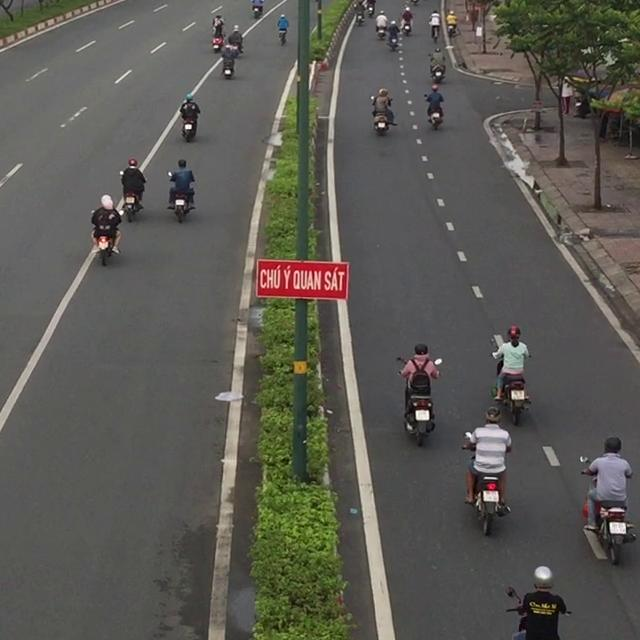Motorcycle: (578, 455, 637, 565), (461, 431, 512, 536), (396, 356, 442, 447), (491, 354, 531, 426), (166, 171, 195, 223), (118, 170, 144, 222), (370, 95, 394, 135), (179, 106, 200, 142), (423, 94, 444, 130), (428, 58, 446, 83)
